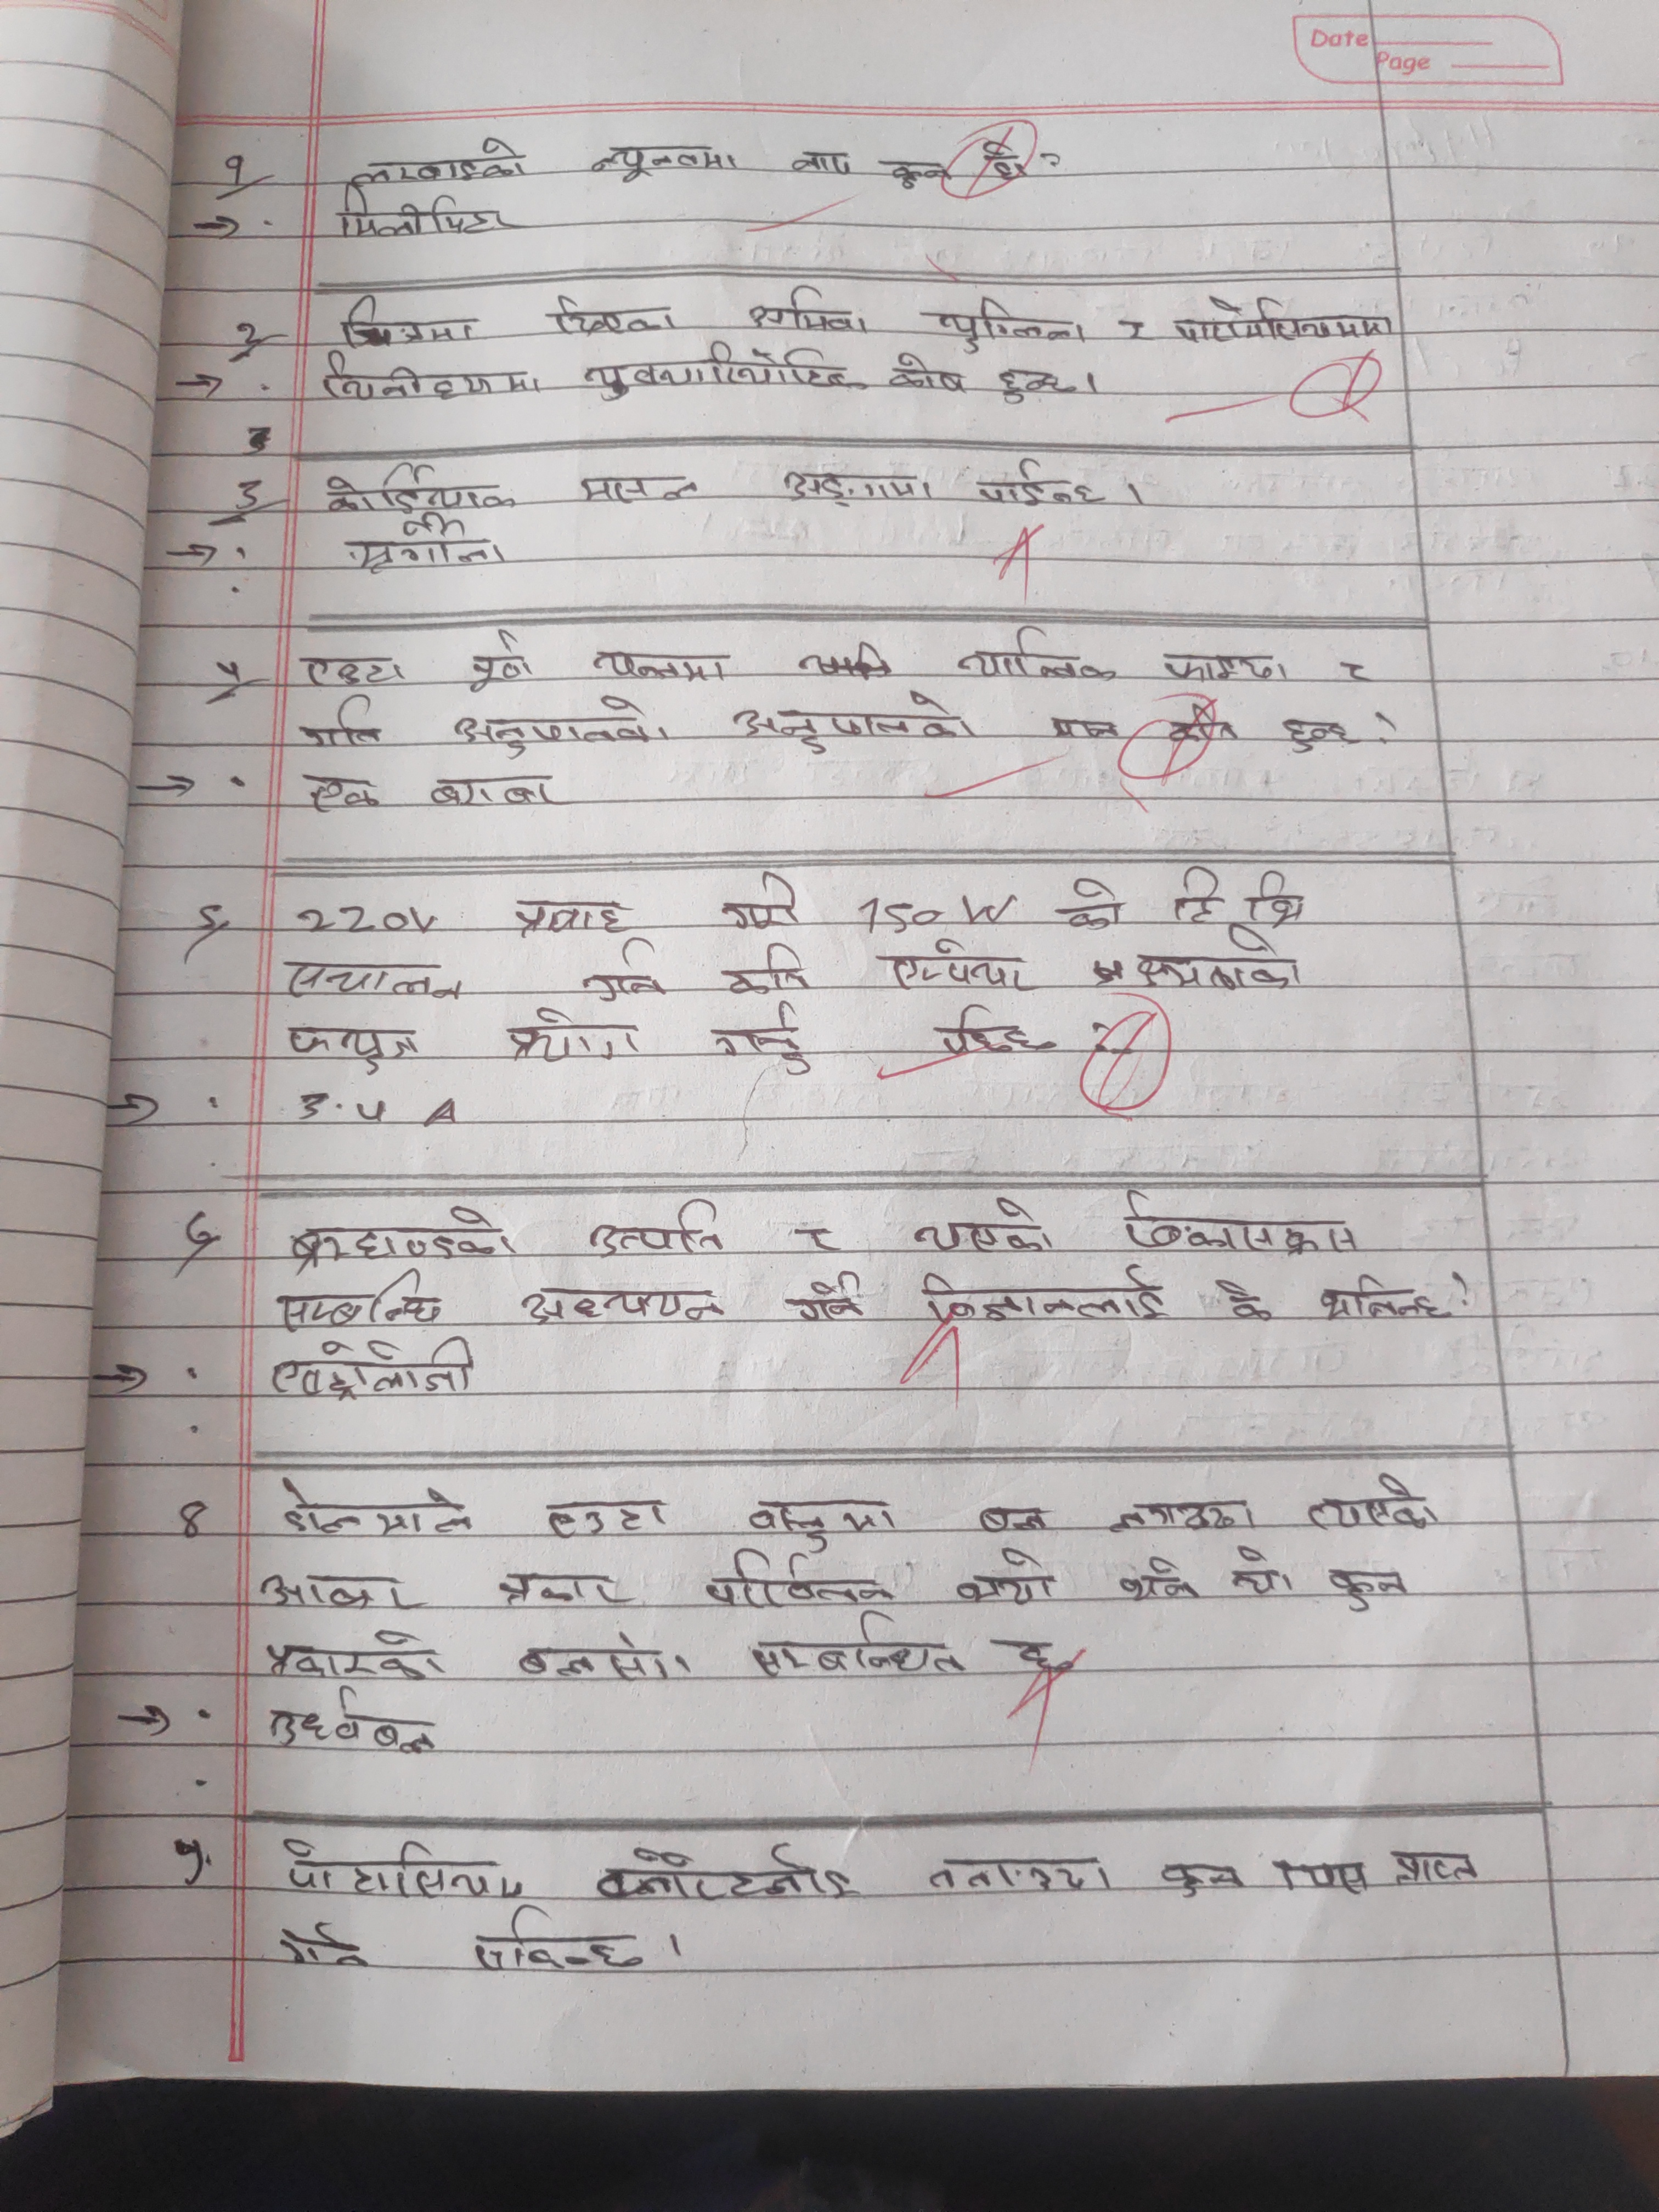text: (272, 1827, 532, 1900), (579, 340, 866, 402), (1114, 1190, 1364, 1261), (721, 686, 979, 754), (587, 1843, 864, 1902), (286, 1205, 519, 1275), (904, 1266, 1168, 1325), (446, 695, 676, 756), (741, 1618, 972, 1677), (251, 1686, 434, 1761), (464, 1904, 645, 1979), (272, 1475, 484, 1538), (272, 1338, 479, 1399), (1162, 294, 1399, 347), (331, 183, 528, 244), (704, 1548, 894, 1611), (314, 352, 549, 401), (272, 951, 469, 1007), (261, 1629, 446, 1688), (904, 1193, 1065, 1261), (1138, 932, 1309, 993), (270, 1271, 450, 1329), (915, 1853, 1124, 1902), (308, 463, 525, 510), (742, 1491, 904, 1554), (924, 293, 1084, 355), (953, 629, 1122, 686), (512, 1629, 676, 1688), (256, 1559, 425, 1615), (519, 1284, 725, 1329), (333, 523, 509, 575), (586, 1198, 732, 1259), (880, 939, 1035, 996), (1307, 1472, 1443, 1536), (500, 1007, 652, 1064), (279, 1017, 425, 1076), (349, 134, 535, 179), (706, 1003, 816, 1080), (974, 458, 1115, 517), (925, 1000, 1061, 1061), (1107, 1493, 1267, 1543), (329, 298, 483, 350), (777, 462, 941, 509), (739, 286, 875, 341), (1314, 1268, 1445, 1325), (584, 644, 735, 691), (951, 1548, 1065, 1609), (582, 141, 746, 181), (488, 1568, 633, 1613), (579, 935, 667, 1008), (425, 770, 572, 813), (723, 941, 819, 1005), (530, 1498, 669, 1541), (505, 894, 631, 941), (275, 1918, 373, 1977), (714, 869, 805, 932), (542, 294, 681, 334), (293, 644, 410, 691), (1154, 646, 1293, 685), (286, 698, 387, 751), (566, 470, 702, 509), (1265, 1853, 1373, 1900), (458, 631, 537, 695), (779, 1270, 870, 1325), (1115, 1552, 1206, 1608), (1384, 1844, 1486, 1893), (1323, 1562, 1408, 1618), (1056, 873, 1129, 937), (1241, 871, 1317, 932), (1220, 1543, 1304, 1599), (295, 770, 385, 820), (1159, 1857, 1258, 1902), (1000, 1625, 1082, 1679), (1276, 709, 1363, 759), (1206, 1270, 1283, 1325), (885, 350, 965, 401), (997, 364, 1084, 409), (1164, 869, 1229, 925), (972, 1498, 1051, 1543), (1047, 707, 1124, 751), (784, 146, 857, 186), (878, 157, 955, 192), (784, 1216, 843, 1256), (1110, 317, 1154, 350)
